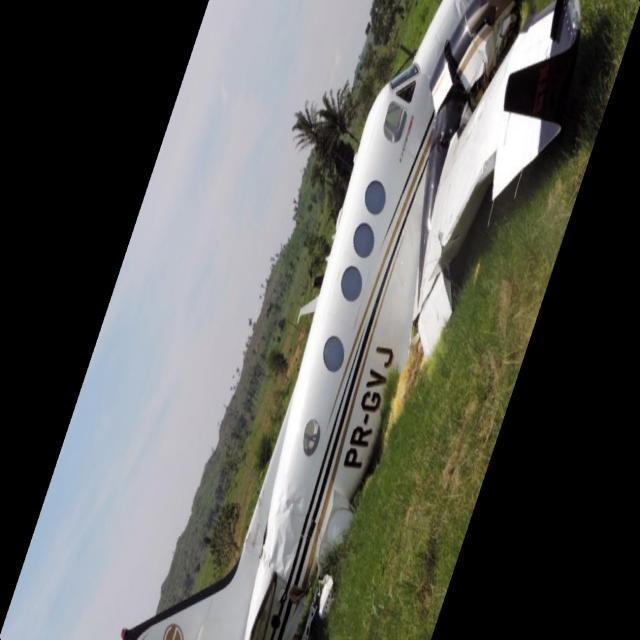dent: (267, 485, 310, 580)
